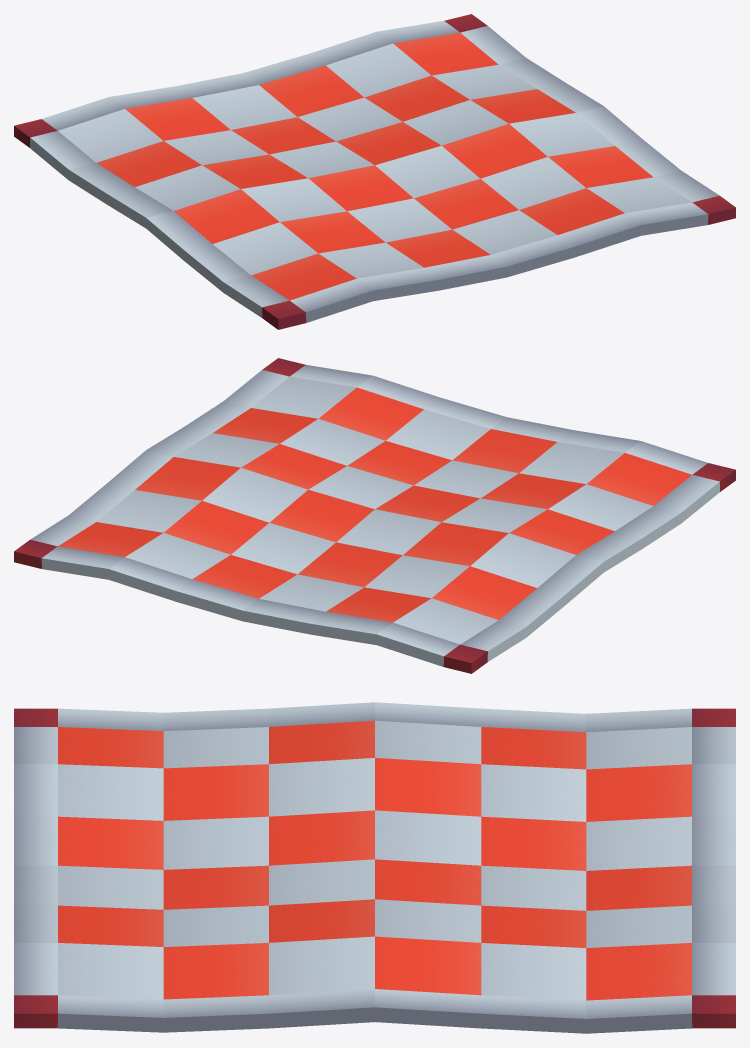
File: FBX_PicnicBlanket.fbx
The picture shows the model from 3 angles, top to bottom: view 1: azimuth 30°, elevation 25°; view 2: azimuth 150°, elevation 25°; view 3: azimuth 270°, elevation 25°; orthographic projection. The views are drawn at different scales.
Parts seen in each view (by area): view 1: Blanket; view 2: Blanket; view 3: Blanket.
Part boxes in pixels (box(x1,y1,x2,y2)): Blanket: box(14, 14, 735, 329); Blanket: box(14, 358, 735, 673); Blanket: box(14, 702, 735, 1033).
Bounding box in the file's own units: 4.43 × 0.2607 × 4.43.
